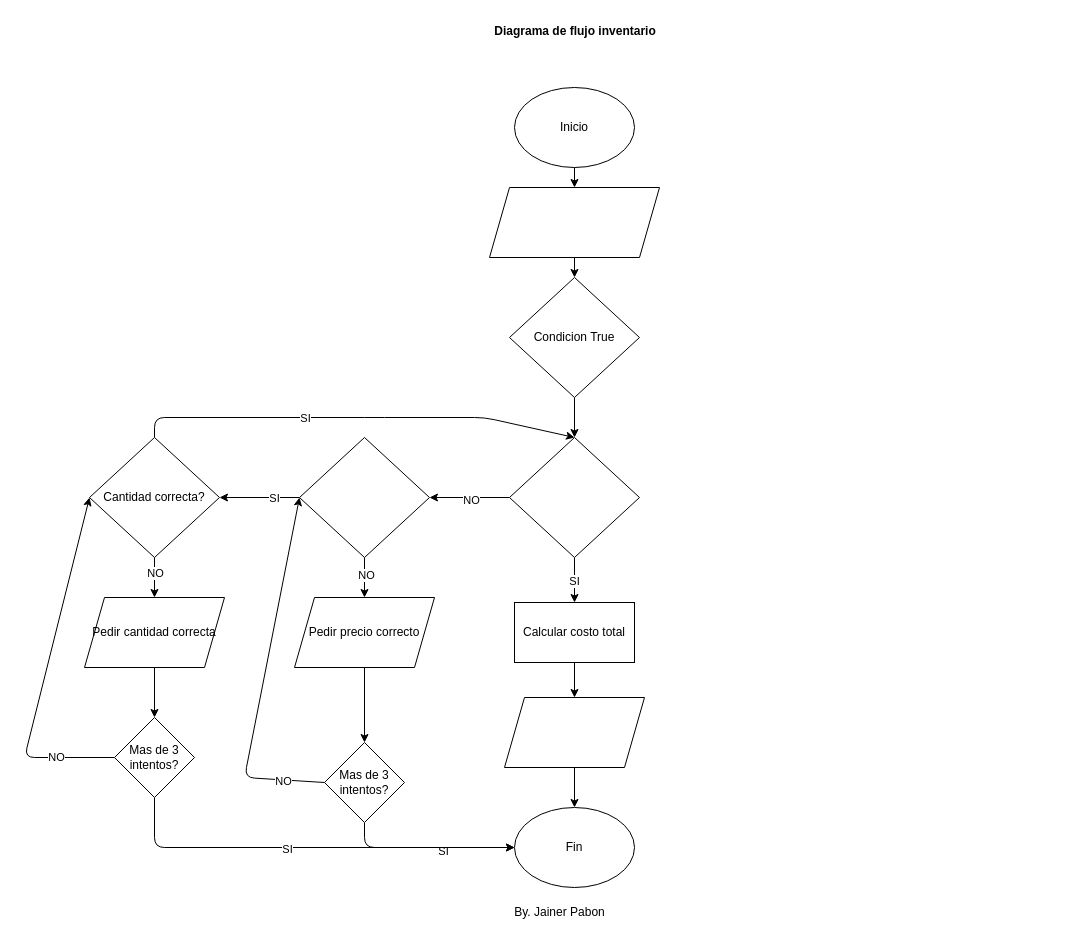
Some shapes in this 1092 by 944 pixel diagram are drawn without their labels. Here are the shapes that lost their labels. From the top down, the centre of each, then its label:
At point (574, 222): "Leer nombre, precio, cantidad".
At point (364, 497): "Precio correcto?".
At point (574, 497): "Precio y cantidades correcto?".
At point (574, 732): "Mostrar resultados".
